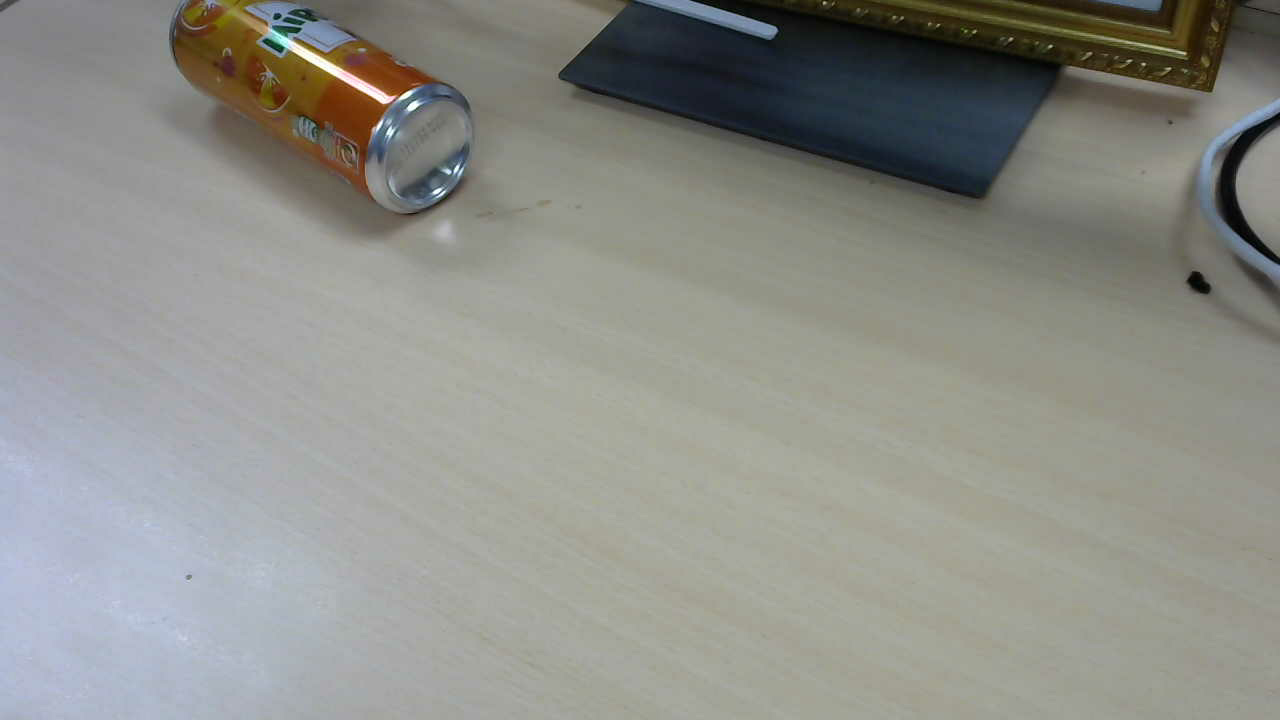Mirinda: (175, 4, 481, 218)
